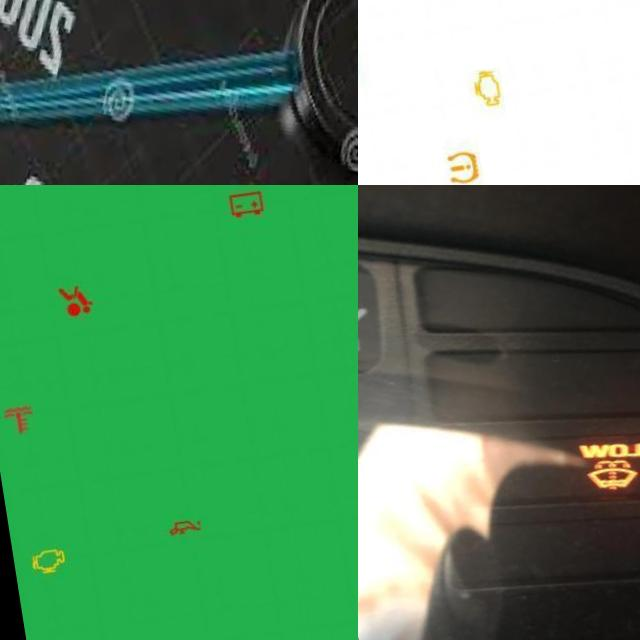Washer Fluid: (574, 462, 627, 501)
